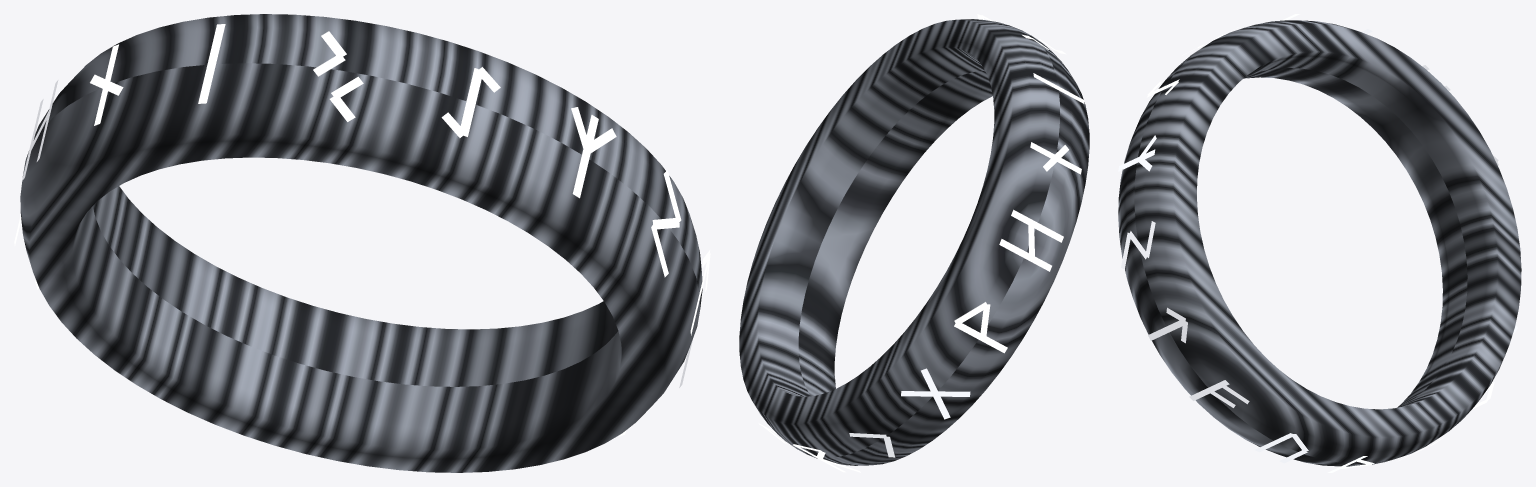
The model's file is nocturne.glb.
3 views of the same model, side by side, from view 1: azimuth 30°, elevation 25°; view 2: azimuth 150°, elevation 25°; view 3: azimuth 270°, elevation 25° (orthographic). The views are drawn at different scales.
Visible parts, largest first — view 1: Nocturne_DamascusBand, Nocturne_RunicInlay; view 2: Nocturne_DamascusBand, Nocturne_RunicInlay; view 3: Nocturne_DamascusBand, Nocturne_RunicInlay.
Part boxes in pixels (left/top/right/bottom): Nocturne_DamascusBand: left=20, top=14, right=702, bottom=472; Nocturne_RunicInlay: left=14, top=24, right=710, bottom=436; Nocturne_DamascusBand: left=739, top=19, right=1089, bottom=465; Nocturne_RunicInlay: left=758, top=14, right=1084, bottom=472; Nocturne_DamascusBand: left=1118, top=20, right=1521, bottom=466; Nocturne_RunicInlay: left=1118, top=14, right=1521, bottom=472.
Bounding box in the file's own units: 1.77 × 1.76 × 1.72.
2 materials, 1 textured.
